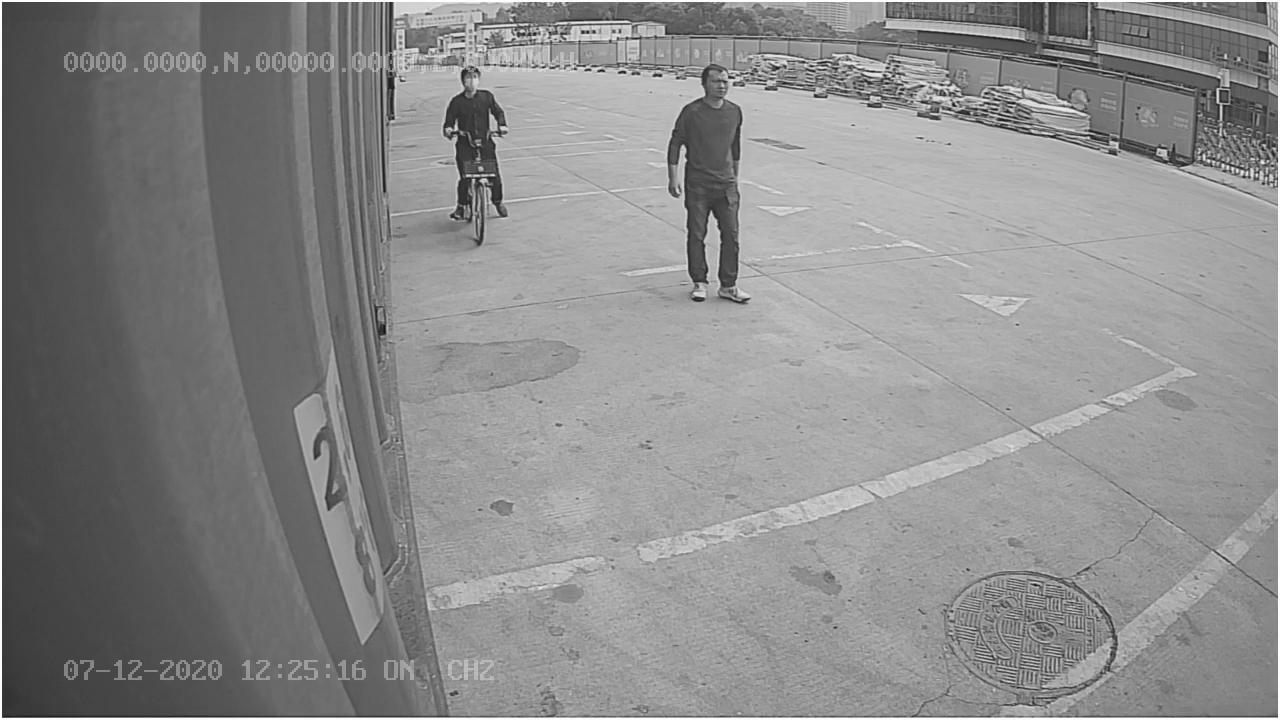person: (662, 60, 755, 308)
